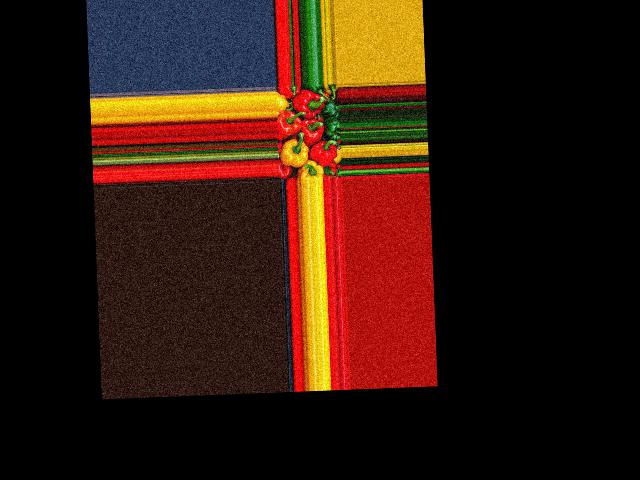bell_pepper: (275, 94, 288, 111)
